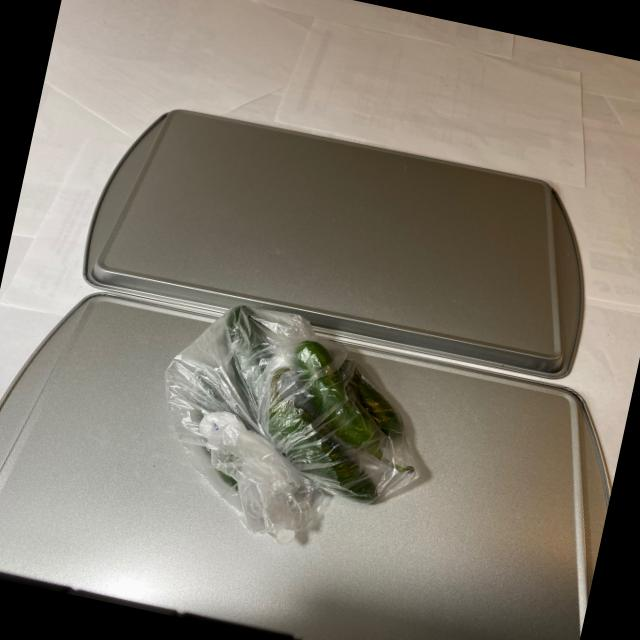chilli: (148, 294, 450, 530)
